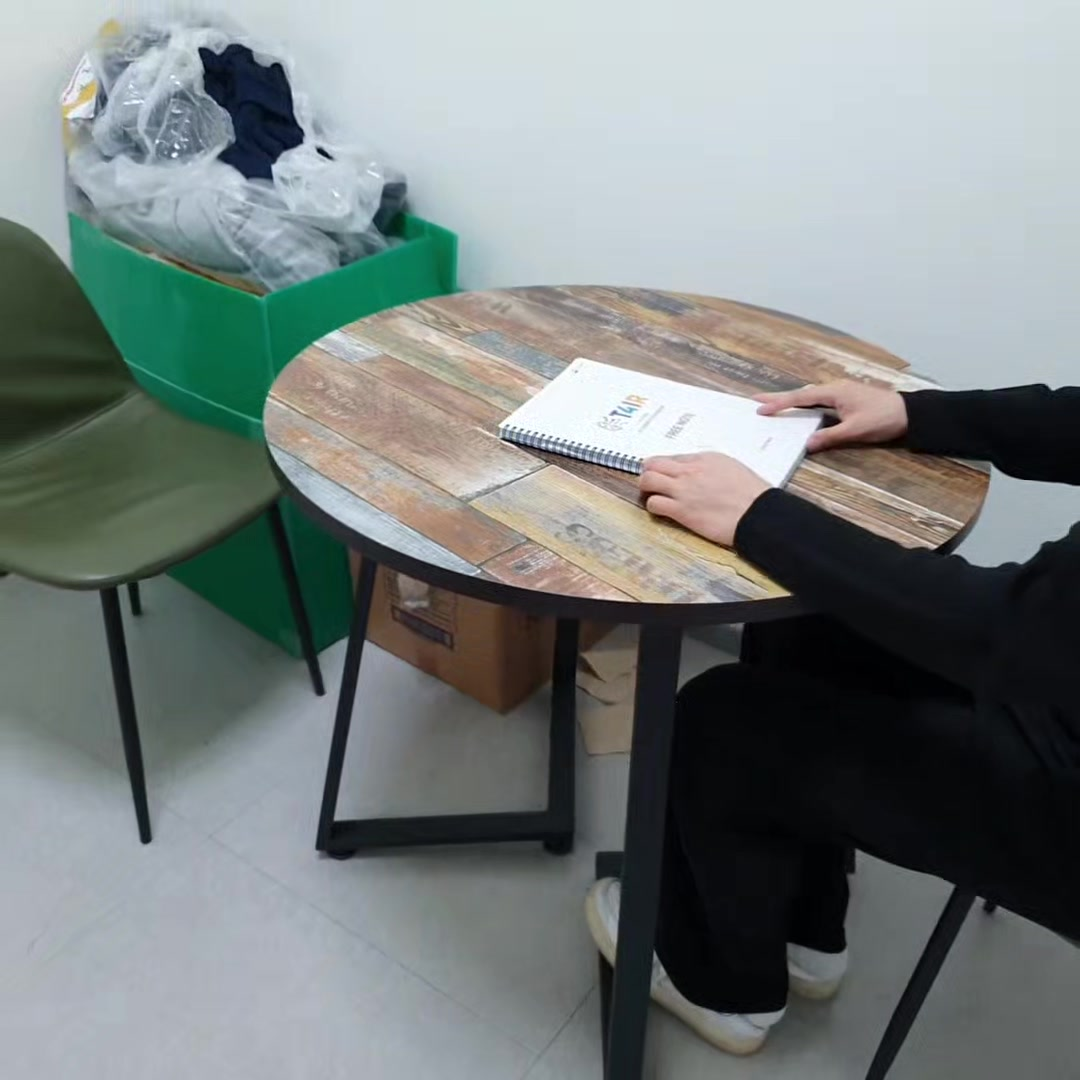book: (496, 332, 835, 528)
